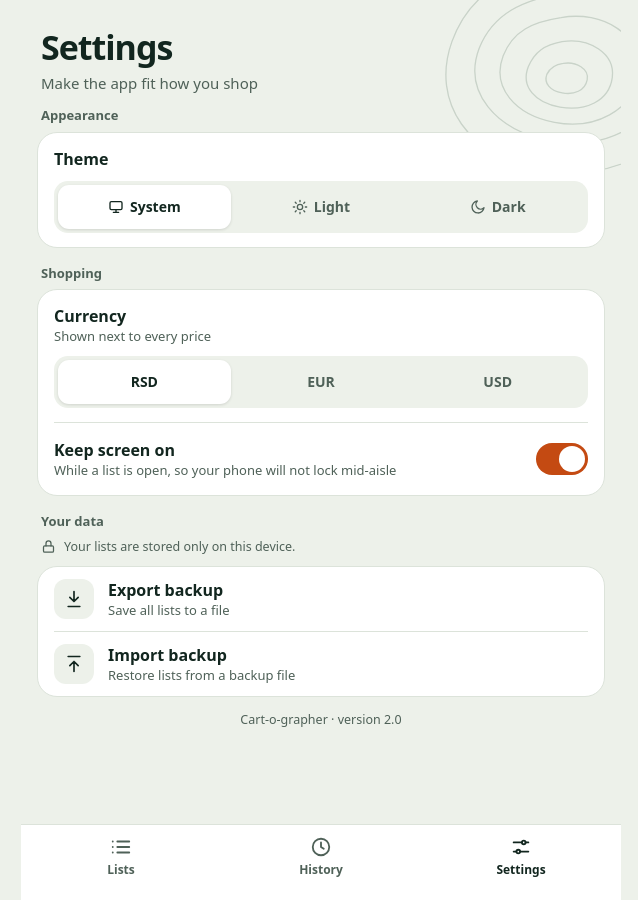
Test case: Settings › choosing EUR shows prices in euros
// ACT: choose EUR, then go to the Lists tab
Step 1. Click the button "EUR" → [321, 382], box [235,360,407,404]
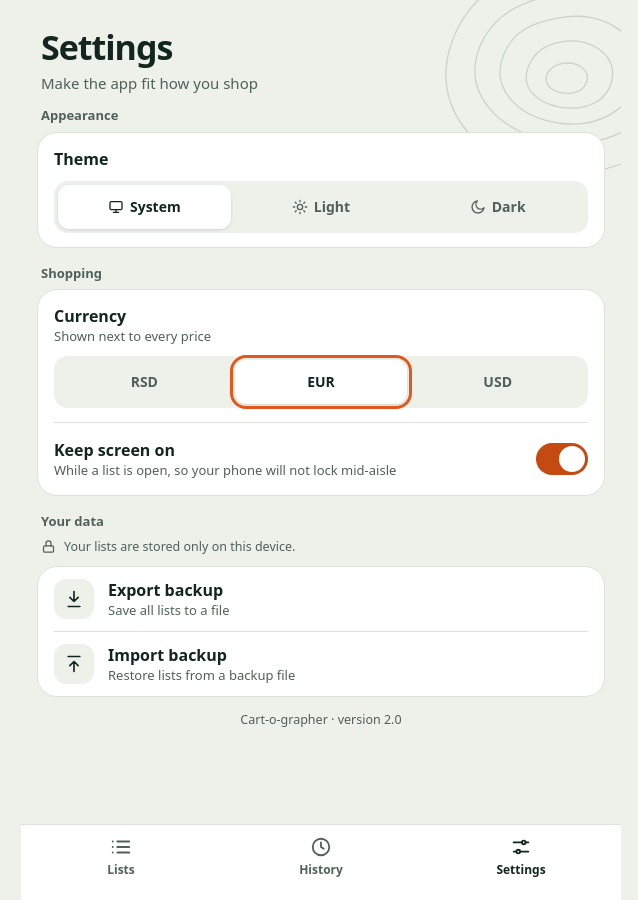
Step 2. Click the link "Lists" → [121, 857], box [107,836,135,878]
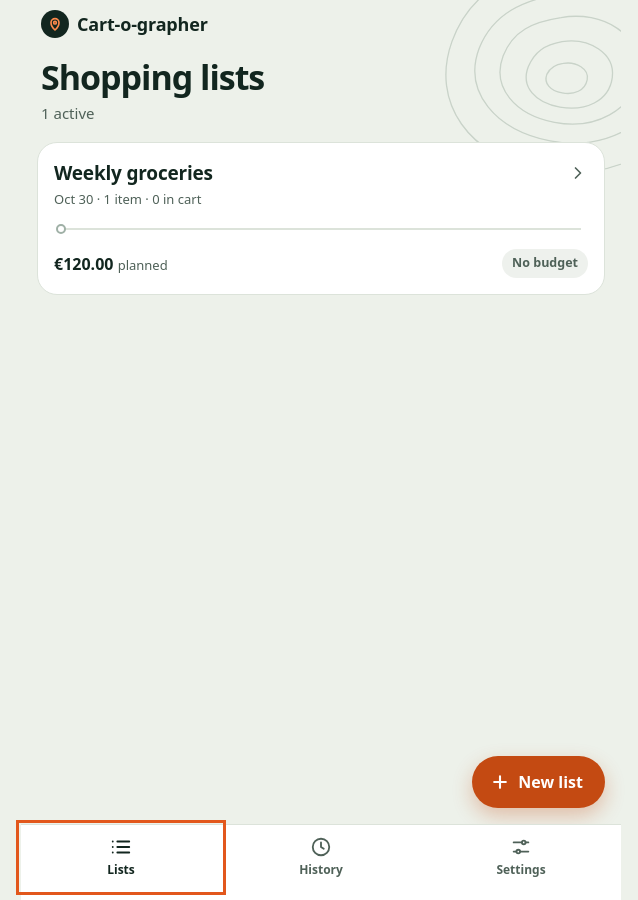
Check: the text "€120.00 planned" is shown, box [54,252,168,276]
